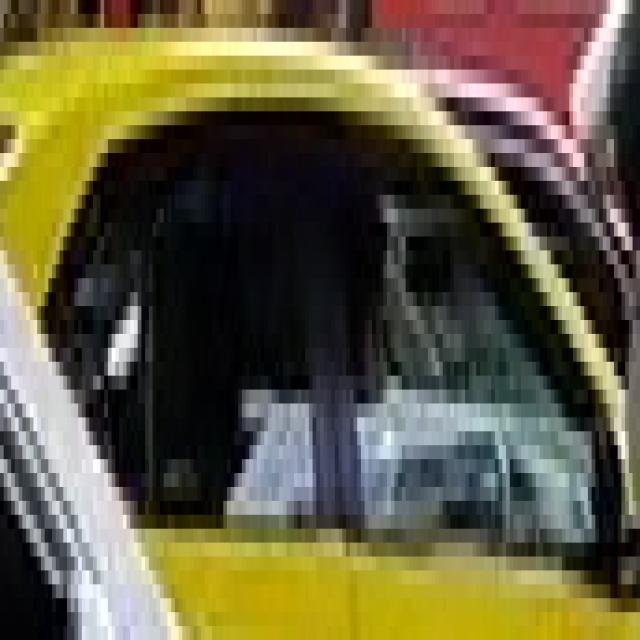tyre: (0, 27, 636, 626)
